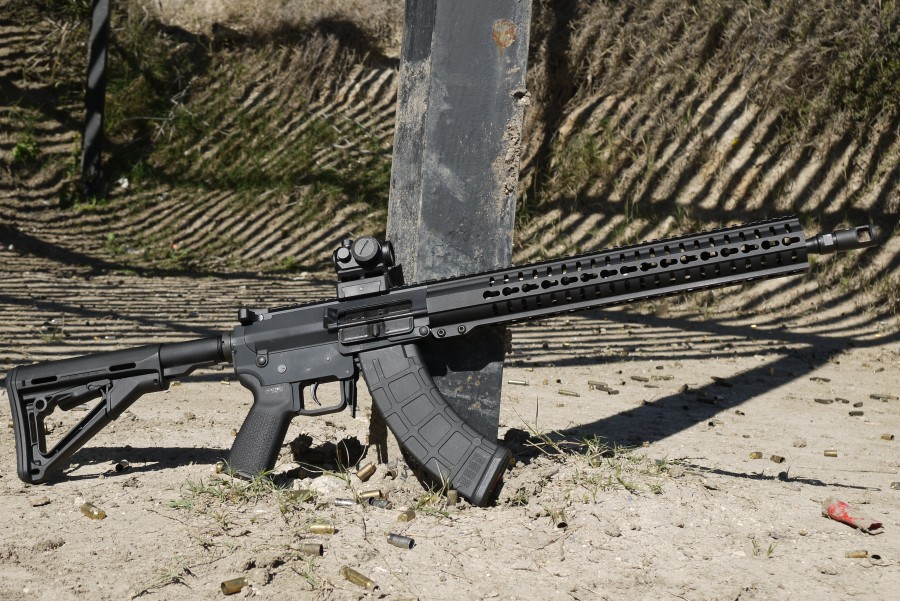Rifle: (1, 207, 885, 505)
